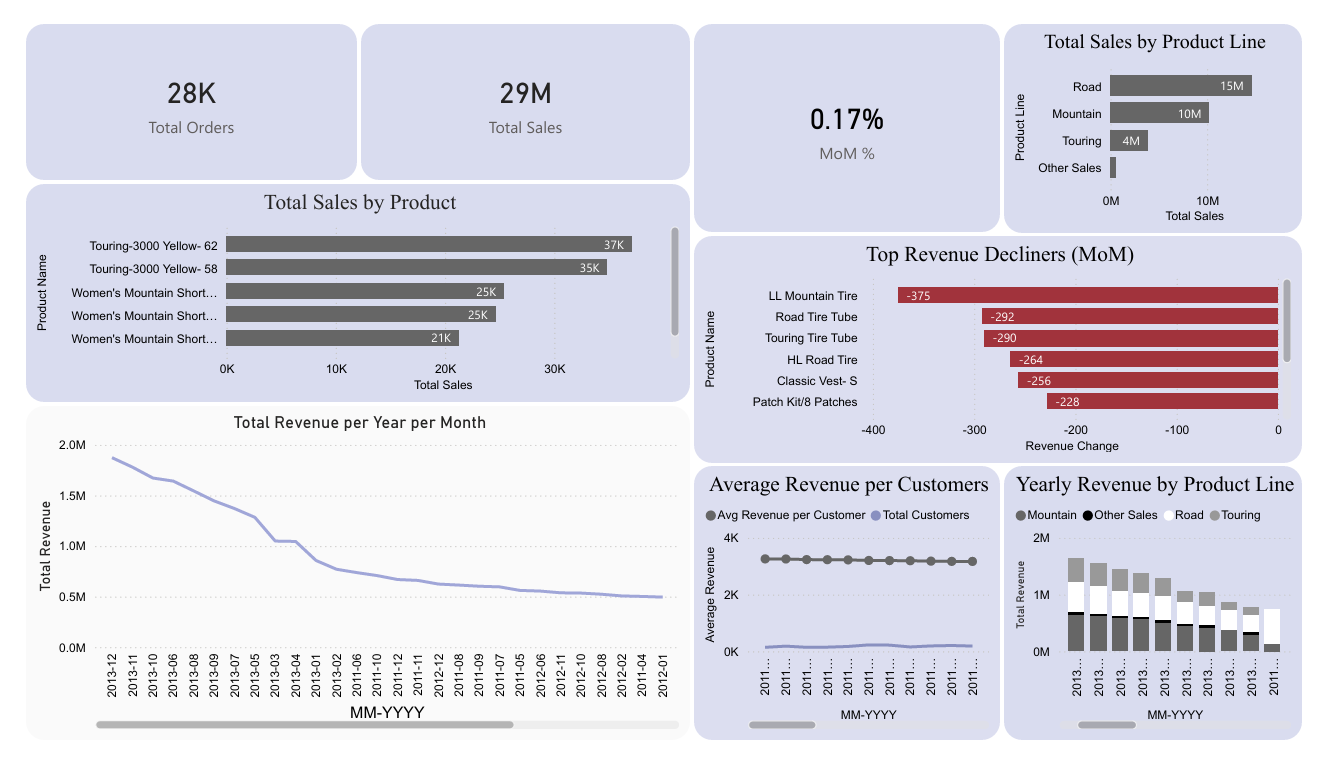

The page's visual inventory and layout, read from the dashboard file:
{"tool":"powerbi","page":{"name":"Page 1","canvas":[1280,720],"ordinal":0},"visuals":[{"type":"card","fields":{"Values":["fact_sales.Total Sales"]},"box":[335,0,333.3,160],"z":1000},{"type":"card","fields":{"Values":["fact_sales.Total Orders"]},"box":[0,0,335,160],"z":2000},{"type":"clusteredBarChart","title":"Total Sales by Product","fields":{"Category":["dim_products.product_name"],"Y":["fact_sales.Total Sales"]},"box":[0,160,668.3,221.7],"z":3000},{"type":"lineChart","title":"Total Revenue per Year per Month","fields":{"Category":["DateTable.YearMonth"],"Y":["fact_sales.Total Revenue"]},"box":[0,381.7,668.3,338.3],"z":4000},{"type":"card","fields":{"Values":["fact_sales.MoM %"]},"box":[668.3,0,310,211.7],"z":5000},{"type":"columnChart","title":"Yearly Revenue by Product Line","fields":{"Category":["DateTable.YearMonth"],"Y":["fact_sales.Total Revenue"],"Series":["dim_products.product_line"]},"box":[978,442,302,278],"z":6000},{"type":"clusteredBarChart","title":"Top Revenue Decliners (MoM)","fields":{"Category":["dim_products.product_name"],"Y":["fact_sales.Revenue Change"]},"box":[668.3,211.7,611.7,231.7],"z":7000},{"type":"lineChart","title":"Average Revenue per Customers","fields":{"Category":["DateTable.YearMonth"],"Y":["fact_sales.Avg Revenue per Customer","fact_sales.Total Customers"]},"box":[668,442,310,278],"z":9000},{"type":"clusteredBarChart","title":"Total Sales by Product Line","fields":{"Category":["dim_products.product_line"],"Y":["fact_sales.Total Sales"]},"box":[978.3,0,301.7,213.3],"z":10000}]}

Visuals, with their boxes in screenshot pixels (x1, y1, x2, y2), scaled from the page's 1280x720 canvas onto the 1327x765 screenshot:
card - fact_sales.Total Sales: <region>347, 0, 693, 170</region>
card - fact_sales.Total Orders: <region>0, 0, 347, 170</region>
"Total Sales by Product" clusteredBarChart: <region>0, 170, 693, 406</region>
"Total Revenue per Year per Month" lineChart: <region>0, 406, 693, 764</region>
card - fact_sales.MoM %: <region>693, 0, 1014, 225</region>
"Yearly Revenue by Product Line" columnChart: <region>1014, 470, 1326, 764</region>
"Top Revenue Decliners (MoM)" clusteredBarChart: <region>693, 225, 1326, 471</region>
"Average Revenue per Customers" lineChart: <region>693, 470, 1014, 764</region>
"Total Sales by Product Line" clusteredBarChart: <region>1014, 0, 1326, 227</region>
